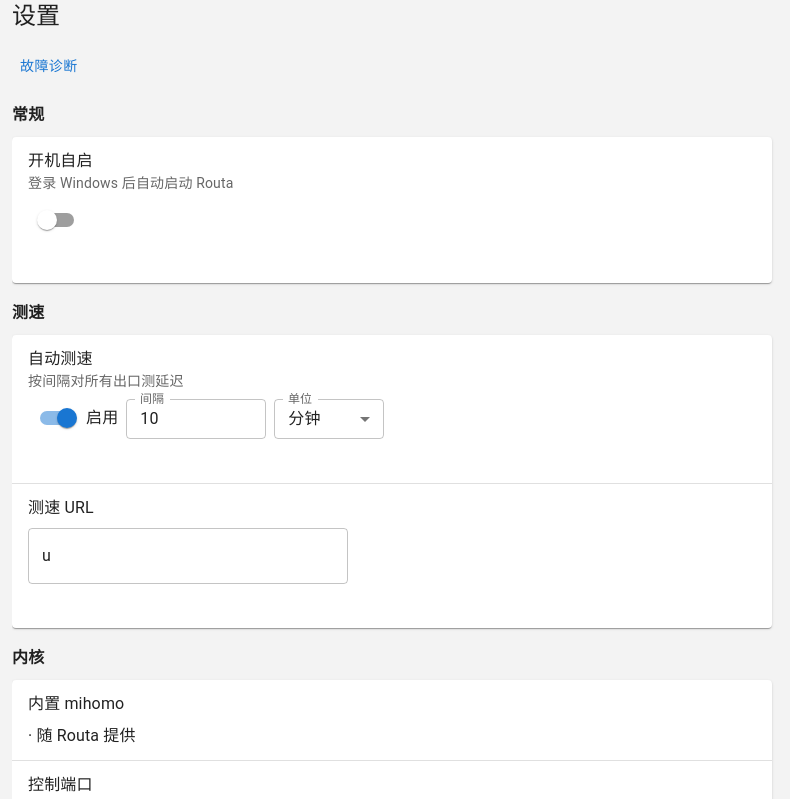
Test: Settings › saves URL on blur without an explicit save or restart
The image size is (790, 799).
Replace the text in the field named "测速 URL" with "https://x.test" at (188, 556), box [28, 528, 348, 584]
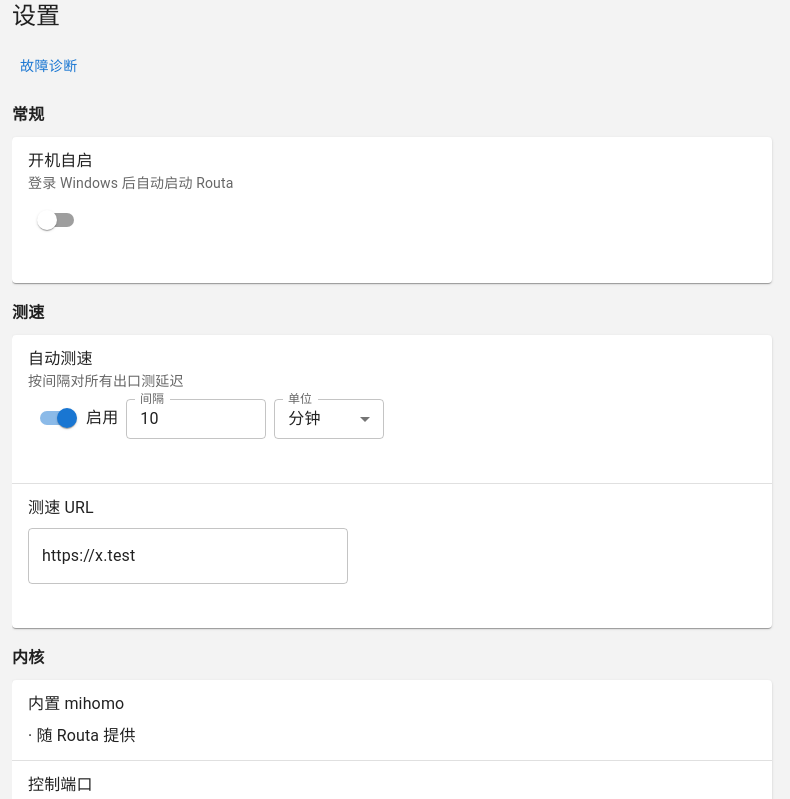
Leave the field named "测速 URL", box [28, 528, 348, 584]
(page scrolled)
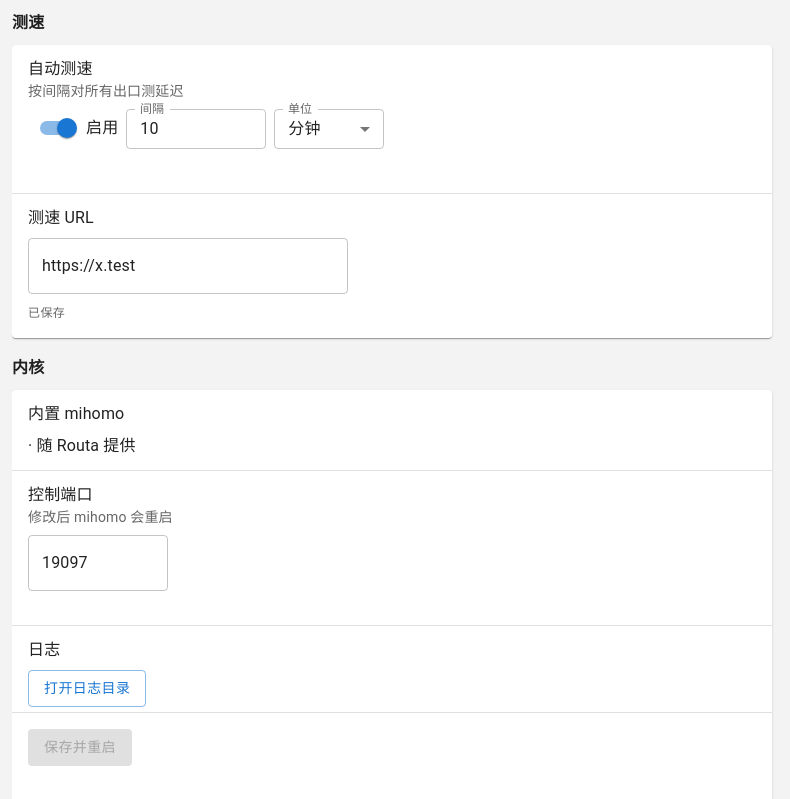
Expected: the button "保存并重启" is disabled, [28, 729, 132, 766]
Expected: the text "已保存" is shown, [28, 304, 65, 324]
